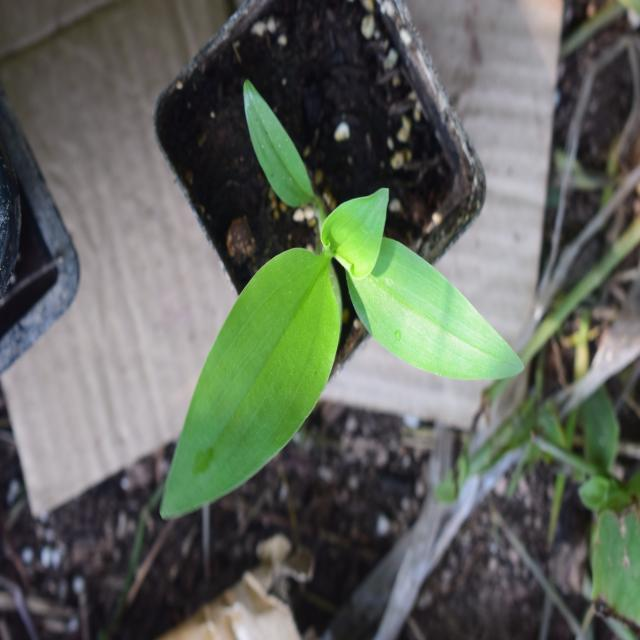Common Dayflower: (152, 131, 506, 509)
